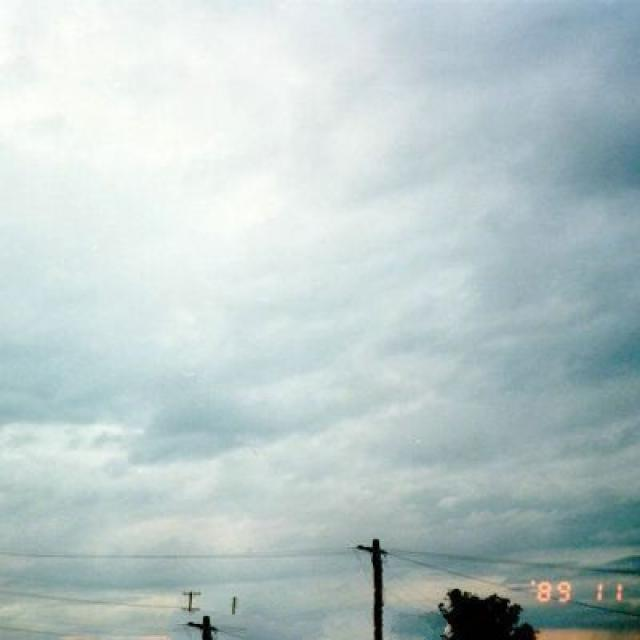Ns: (1, 53, 640, 477)
